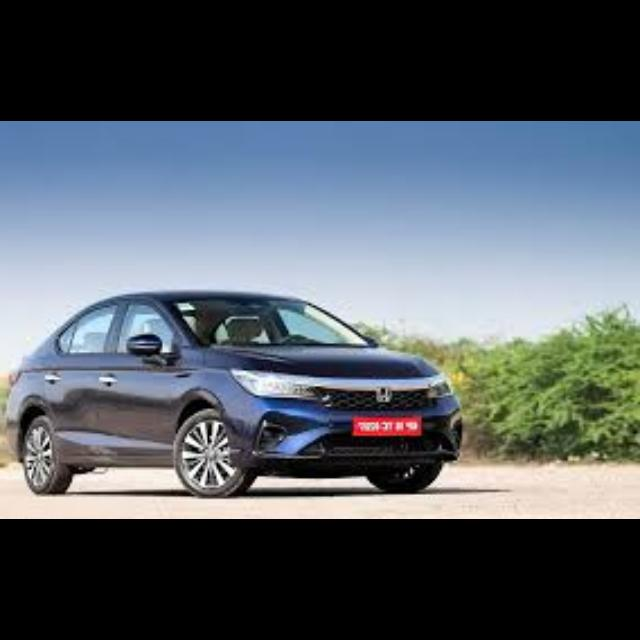vehicles: (12, 282, 480, 504)
